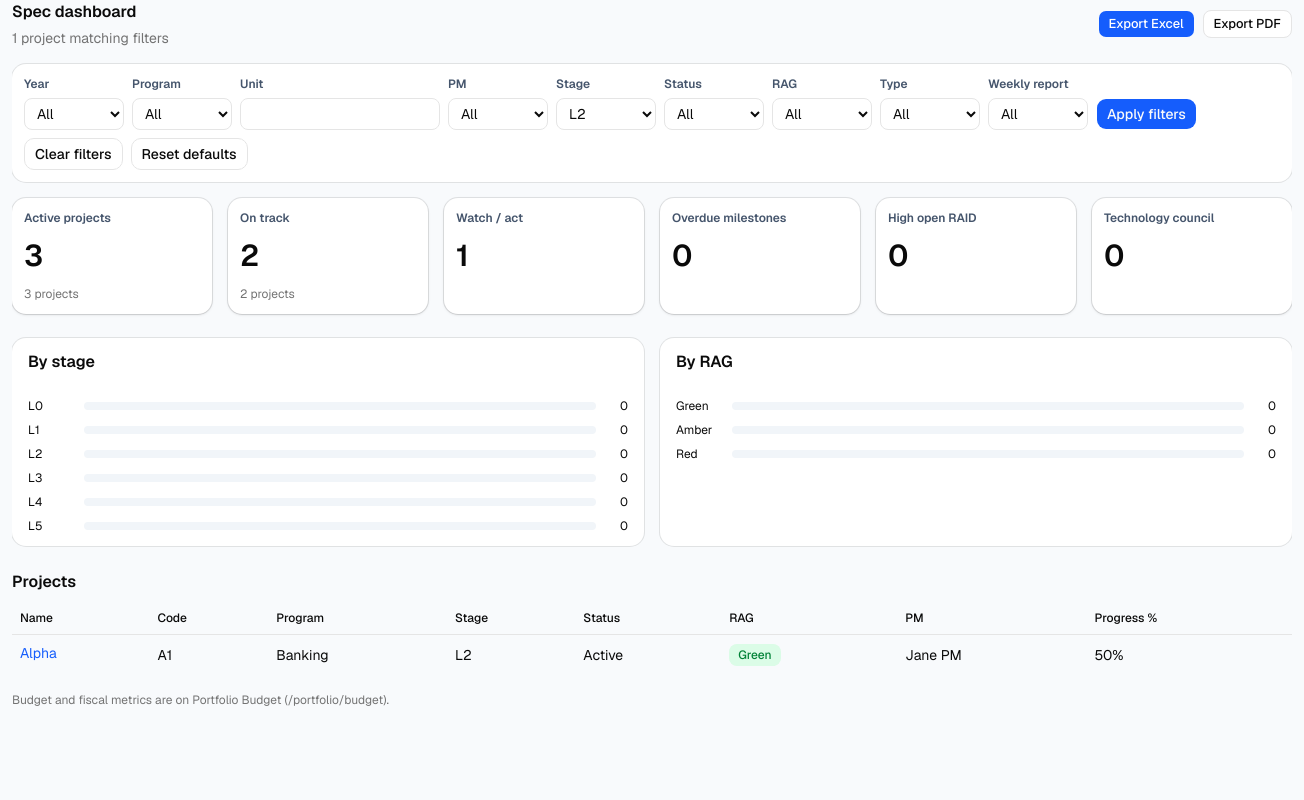
Scenario: PortfolioDashboardPage › shows empty drill-down copy when overdue list is empty
Expected: the element with test id "spec-kpi-row" is shown, [12,198,1292,314]
What coordinates should you click on to do the following:
click the button "Overdue milestones 0"
I would click on:
 (760, 256)
Its box is [660,198,860,314].
(page scrolled)
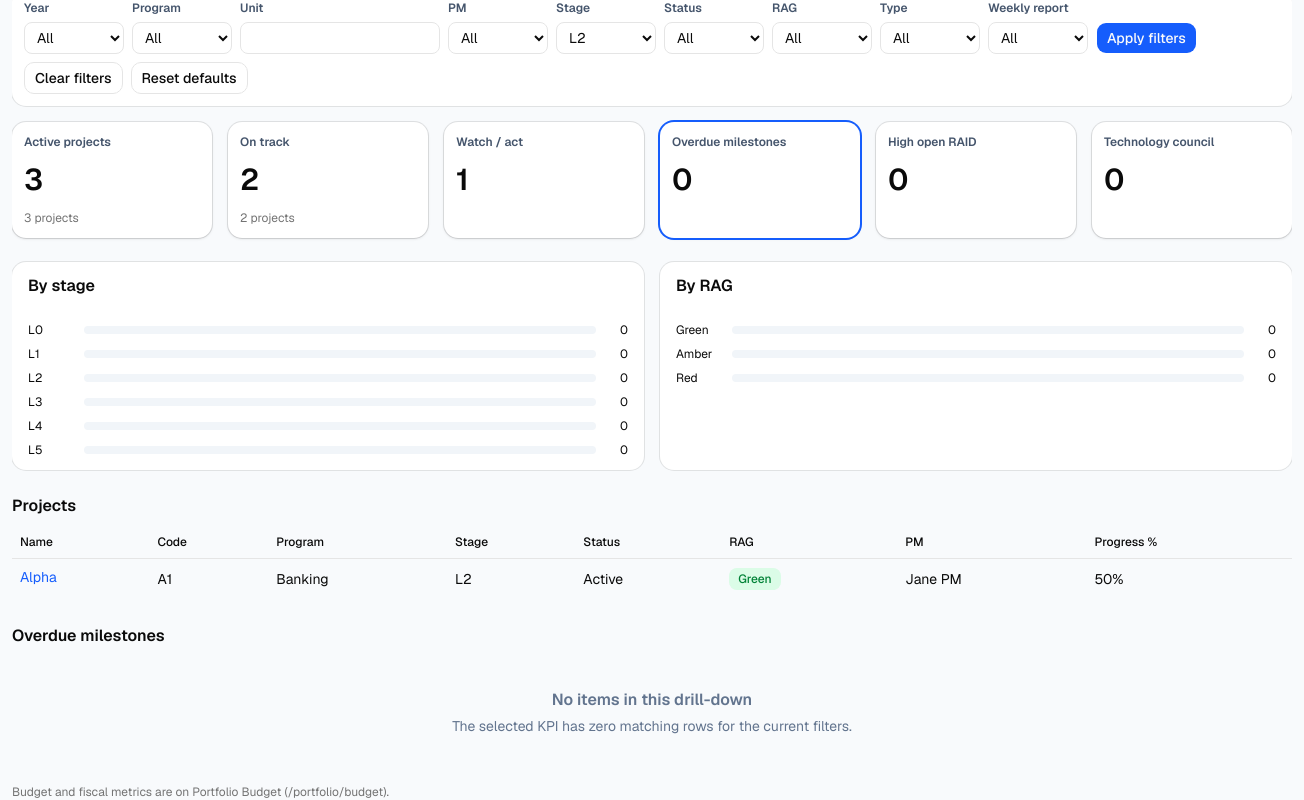
Expected: the text "No items in this drill-down" is shown, [552,688,752,710]
Expected: the text "The selected KPI has zero matching rows for the current filters." is shown, [452,716,852,734]
